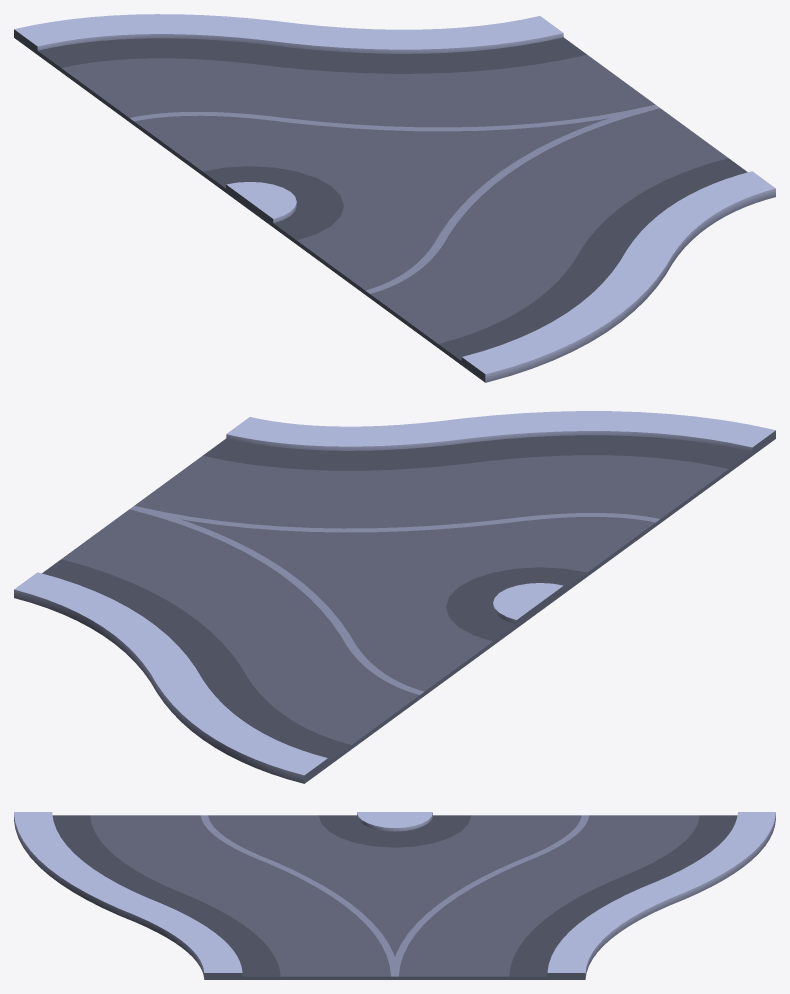
Rendered from road-split.glb.
3 renders of one model, top to bottom at view 1: azimuth 30°, elevation 25°; view 2: azimuth 150°, elevation 25°; view 3: azimuth 270°, elevation 25°, orthographic. The views are drawn at different scales.
Parts seen in each view (by area): view 1: road-split; view 2: road-split; view 3: road-split.
Boxes of the visible parts, x1=… form: road-split: x1=14, y1=14, x2=775, y2=382; road-split: x1=14, y1=411, x2=775, y2=783; road-split: x1=14, y1=812, x2=775, y2=979.
Size of the model in its own units: 1 by 0.02 by 2.
Materials: 1 (1 with a texture image).
